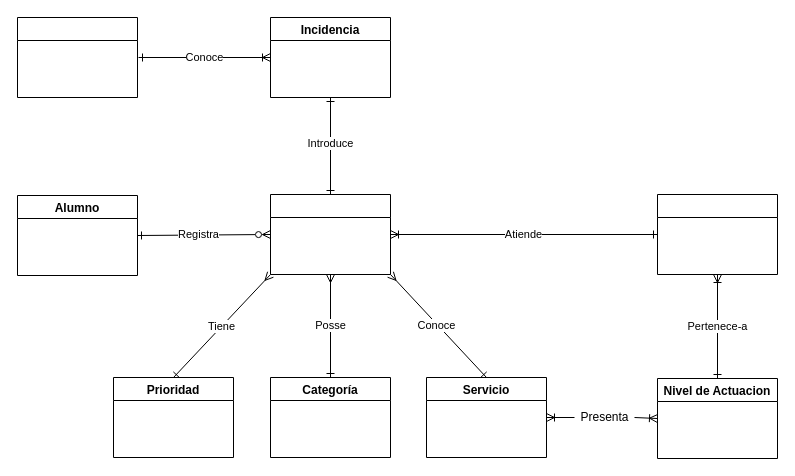
Some shapes in this 795 by 476 pixel diagram are drawn without their labels. Each missing label, with the centre of its shape:
"Administrador" belongs at point 77,57.
"Empleado" belongs at point 717,234.
"Solicitud" belongs at point 330,234.
